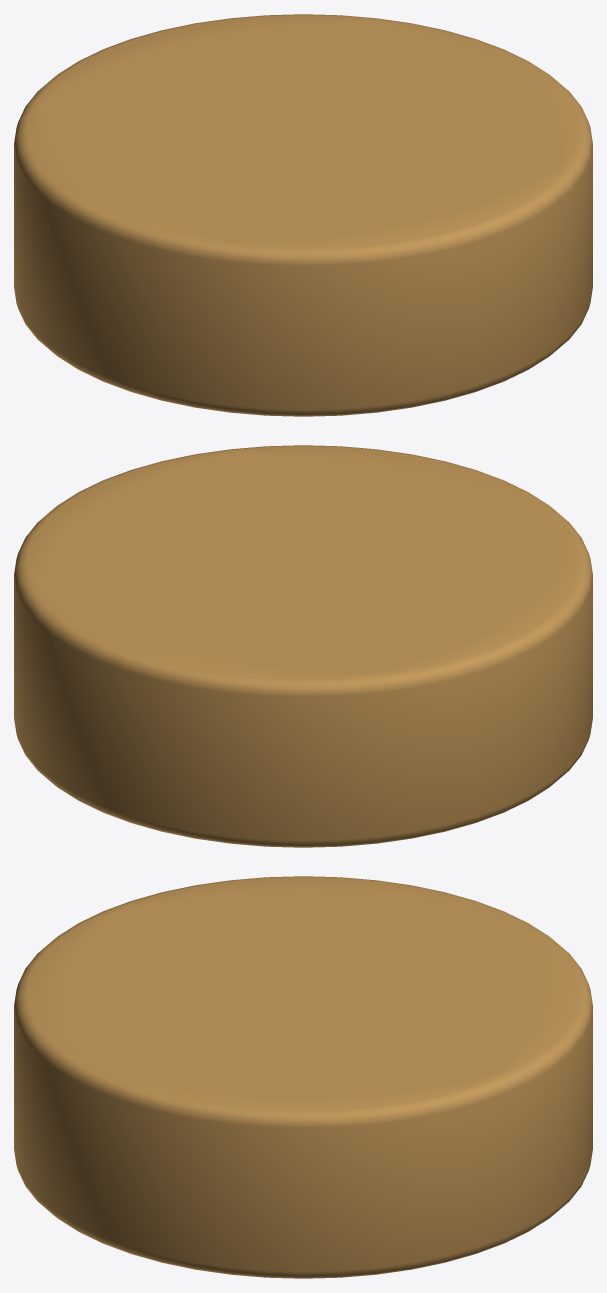
Rendered from C.Item.06.glb.
3 renders of one model, top to bottom at view 1: azimuth 30°, elevation 25°; view 2: azimuth 150°, elevation 25°; view 3: azimuth 270°, elevation 25°, orthographic.
Parts seen in each view (by area): view 1: C.Item.06; view 2: C.Item.06; view 3: C.Item.06.
Part boxes in pixels (x1,y1,x2,y2): C.Item.06: [14, 14, 592, 416]; C.Item.06: [14, 445, 592, 847]; C.Item.06: [14, 876, 592, 1278].
Bounding box in the file's own units: 0.1857 × 0.0588 × 0.1857.
